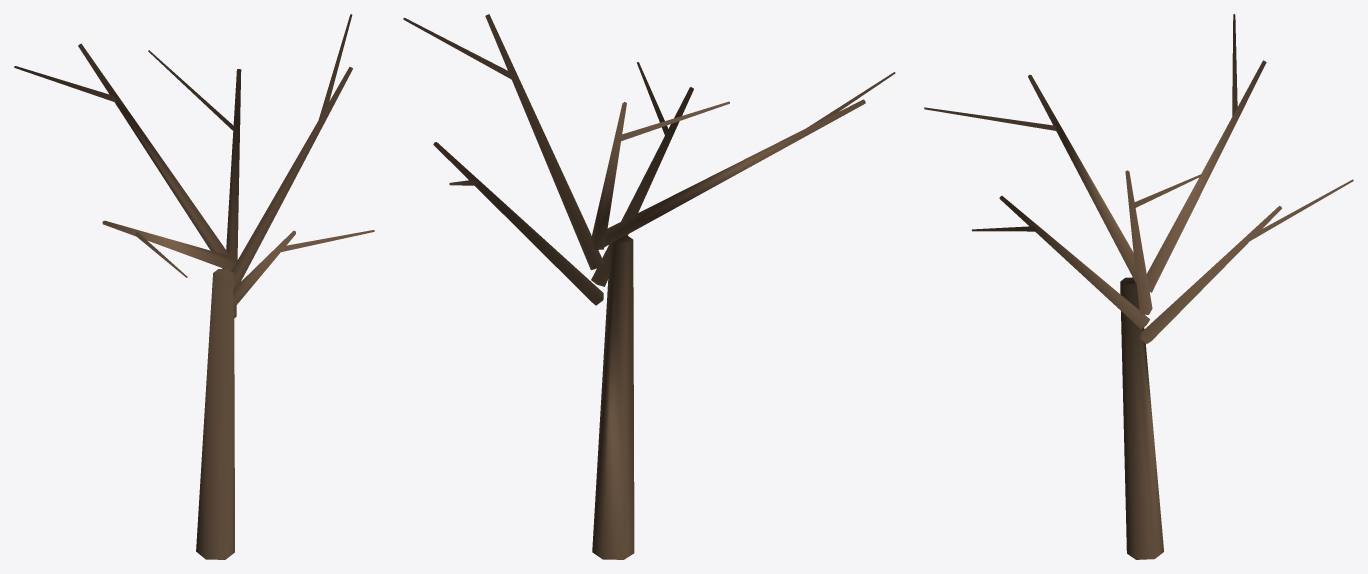
The model's file is broad-v2-winter.glb.
3 views of the same model, side by side, from view 1: azimuth 30°, elevation 25°; view 2: azimuth 150°, elevation 25°; view 3: azimuth 270°, elevation 25° (orthographic). The views are drawn at different scales.
Parts seen in each view (by area): view 1: broad_v2; view 2: broad_v2; view 3: broad_v2.
Part boxes in pixels (box(x1,y1,x2,y2)): broad_v2: box(14, 14, 374, 559); broad_v2: box(403, 14, 895, 559); broad_v2: box(924, 14, 1353, 559).
Size of what is drawn, in the model's own units: 6.32 by 8.74 by 7.27.
